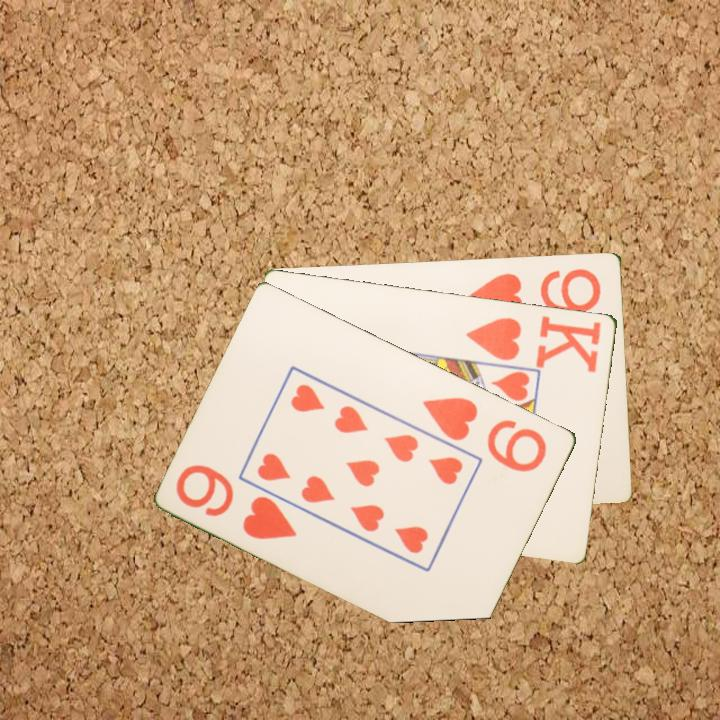9h: (419, 393, 551, 475), (172, 460, 301, 543), (464, 265, 605, 318)
Kh: (463, 311, 605, 375)
